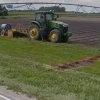Tractor: (15, 5, 74, 50)
